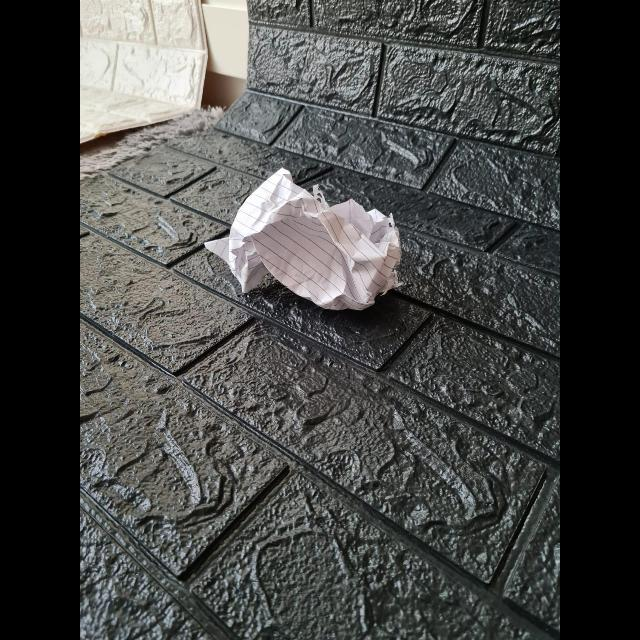scrap_paper: (212, 168, 412, 308)
